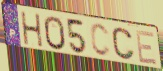5: (66, 17, 88, 56)
C: (111, 27, 137, 62), (89, 22, 112, 59)
E: (135, 29, 159, 67)
H: (19, 11, 44, 49)
O: (43, 15, 67, 52)
